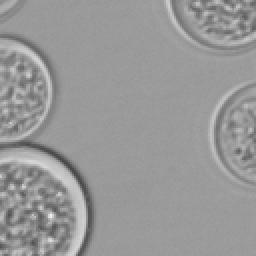picoshell: (0, 142, 90, 254), (0, 38, 50, 140), (208, 82, 254, 186), (164, 0, 254, 50)
